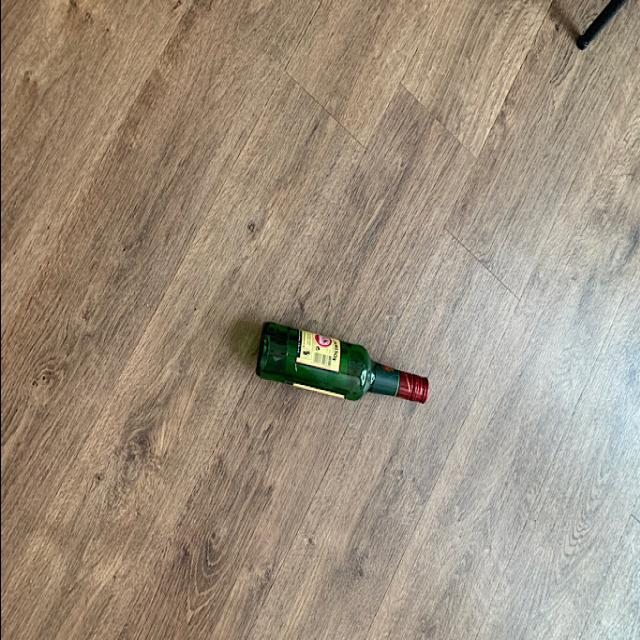Glass Bottle: (253, 322, 428, 406)
